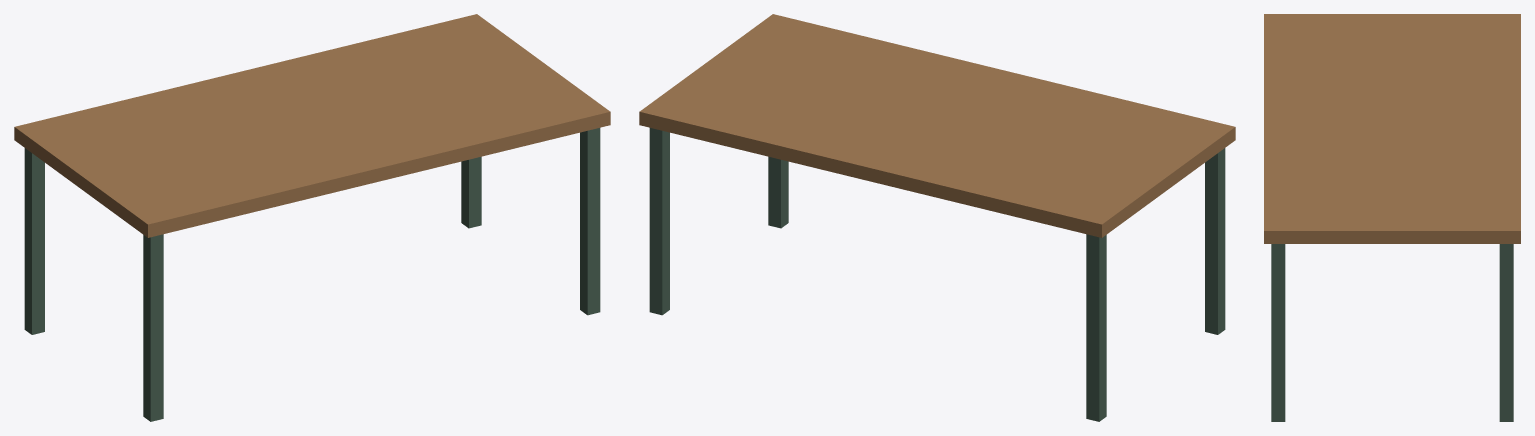
3 views of the same model, side by side, from view 1: azimuth 30°, elevation 25°; view 2: azimuth 150°, elevation 25°; view 3: azimuth 270°, elevation 25° (orthographic). The views are drawn at different scales.
Parts seen in each view (by area): view 1: top, leg-0-1, leg-1-1, leg-0-0, leg-1-0; view 2: top, leg-0-0, leg-1-0, leg-0-1, leg-1-1; view 3: top, leg-1-0, leg-1-1.
Part boxes in pixels (box(x1,y1,x2,y2)): top: box(14, 14, 610, 237); leg-0-1: box(143, 234, 163, 421); leg-1-1: box(580, 128, 600, 315); leg-0-0: box(24, 148, 44, 334); leg-1-0: box(461, 156, 481, 228); top: box(639, 14, 1235, 237); leg-0-0: box(1086, 234, 1106, 421); leg-1-0: box(649, 128, 669, 315); leg-0-1: box(1205, 148, 1225, 334); leg-1-1: box(768, 156, 788, 228); top: box(1264, 14, 1520, 243); leg-1-0: box(1499, 244, 1513, 421); leg-1-1: box(1271, 244, 1285, 421).
Bounding box in the file's own units: 1.8 × 0.75 × 0.9.
